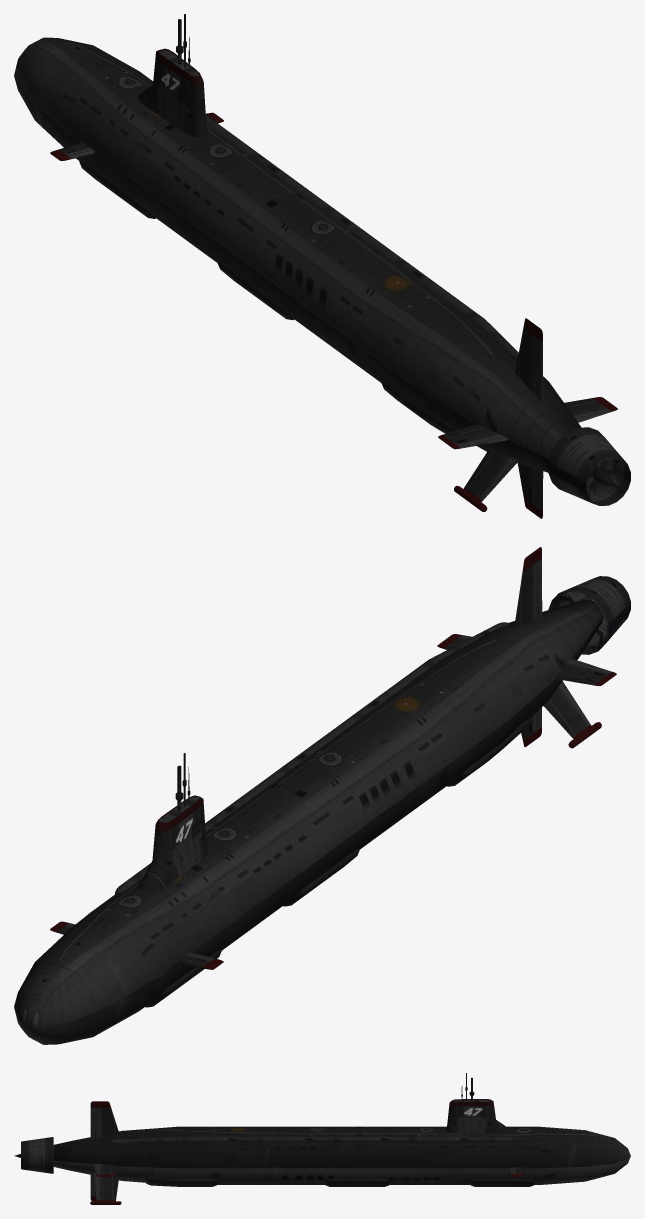
File: 海狼级.glb
3 renders of one model, top to bottom at view 1: azimuth 30°, elevation 25°; view 2: azimuth 150°, elevation 25°; view 3: azimuth 270°, elevation 25°, orthographic. The views are drawn at different scales.
Visible parts, largest first — view 1: OilTank01, Tube01, ChamferBox01, OilTank02, ChamferBox05, ChamferBox02, ChamferBox06, ChamferBox08; view 2: OilTank01, ChamferBox01, OilTank02, Tube01, ChamferBox05, ChamferBox02, ChamferBox08, ChamferBox06, ChamferBox03; view 3: OilTank01, OilTank02, ChamferBox01, ChamferBox02, Tube01, ChamferBox05, ChamferBox07, ChamferBox06.
Boxes of the visible parts, x1=… form: OilTank01: x1=14, y1=37, x2=615, y2=487; Tube01: x1=548, y1=427, x2=630, y2=505; ChamferBox01: x1=137, y1=48, x2=207, y2=137; OilTank02: x1=206, y1=115, x2=518, y2=359; ChamferBox05: x1=515, y1=318, x2=543, y2=518; ChamferBox02: x1=79, y1=161, x2=454, y2=433; ChamferBox06: x1=438, y1=397, x2=617, y2=449; ChamferBox08: x1=454, y1=450, x2=518, y2=511; OilTank01: x1=14, y1=599, x2=603, y2=1044; ChamferBox01: x1=137, y1=795, x2=207, y2=893; OilTank02: x1=115, y1=622, x2=509, y2=894; Tube01: x1=548, y1=576, x2=630, y2=654; ChamferBox05: x1=514, y1=547, x2=542, y2=747; ChamferBox02: x1=145, y1=720, x2=527, y2=1007; ChamferBox08: x1=543, y1=681, x2=601, y2=748; ChamferBox06: x1=437, y1=634, x2=616, y2=686; ChamferBox03: x1=50, y1=921, x2=223, y2=969; OilTank01: x1=14, y1=1126, x2=630, y2=1184; OilTank02: x1=109, y1=1136, x2=512, y2=1143; ChamferBox01: x1=446, y1=1099, x2=509, y2=1133; ChamferBox02: x1=145, y1=1176, x2=534, y2=1186; Tube01: x1=21, y1=1137, x2=53, y2=1173; ChamferBox05: x1=90, y1=1101, x2=119, y2=1201; ChamferBox07: x1=90, y1=1173, x2=121, y2=1204; ChamferBox06: x1=93, y1=1163, x2=118, y2=1176.
Size of the model in its own units: 27.62 by 39.03 by 171.
12 materials, 12 textured.
